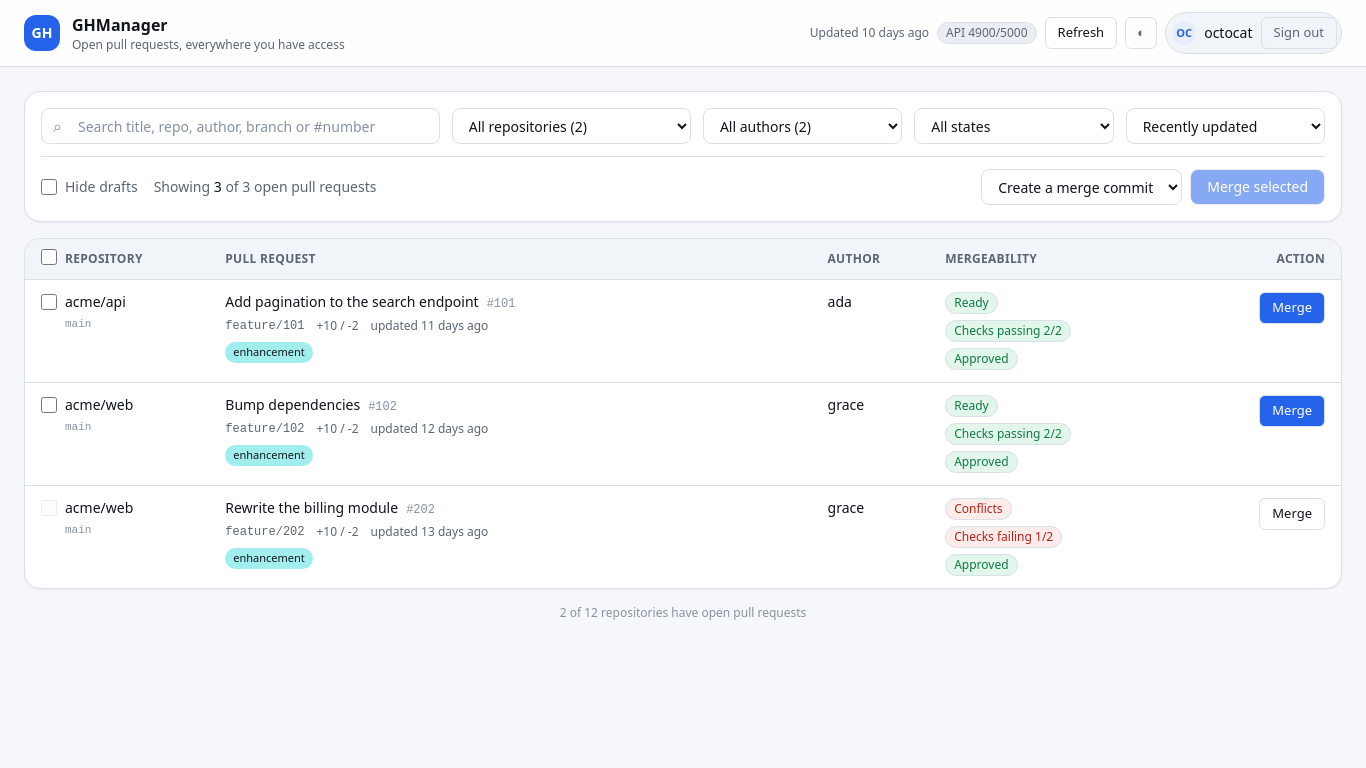
Test: Dashboard bulk merge › selects every mergeable row and merges them together
Expected: the table is shown, [25,239,1341,588]
Click the checkbox named "Select all 2 mergeable pull requests in view" at point(49, 257), box [41,249,57,265]
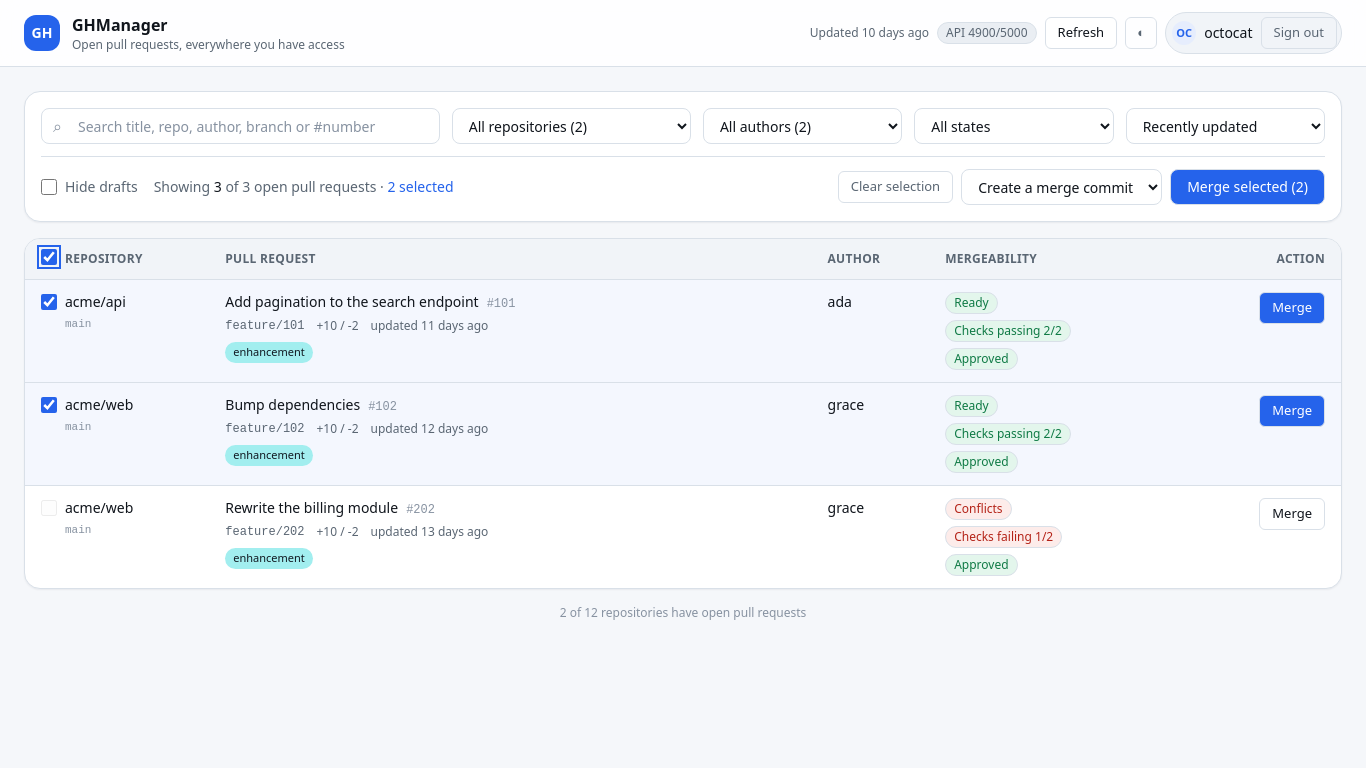
Expected: the text "2 selected" is shown, [388,177,454,196]
Click the button "Merge selected (2)" at point(1248, 187), box [1170,169,1325,205]
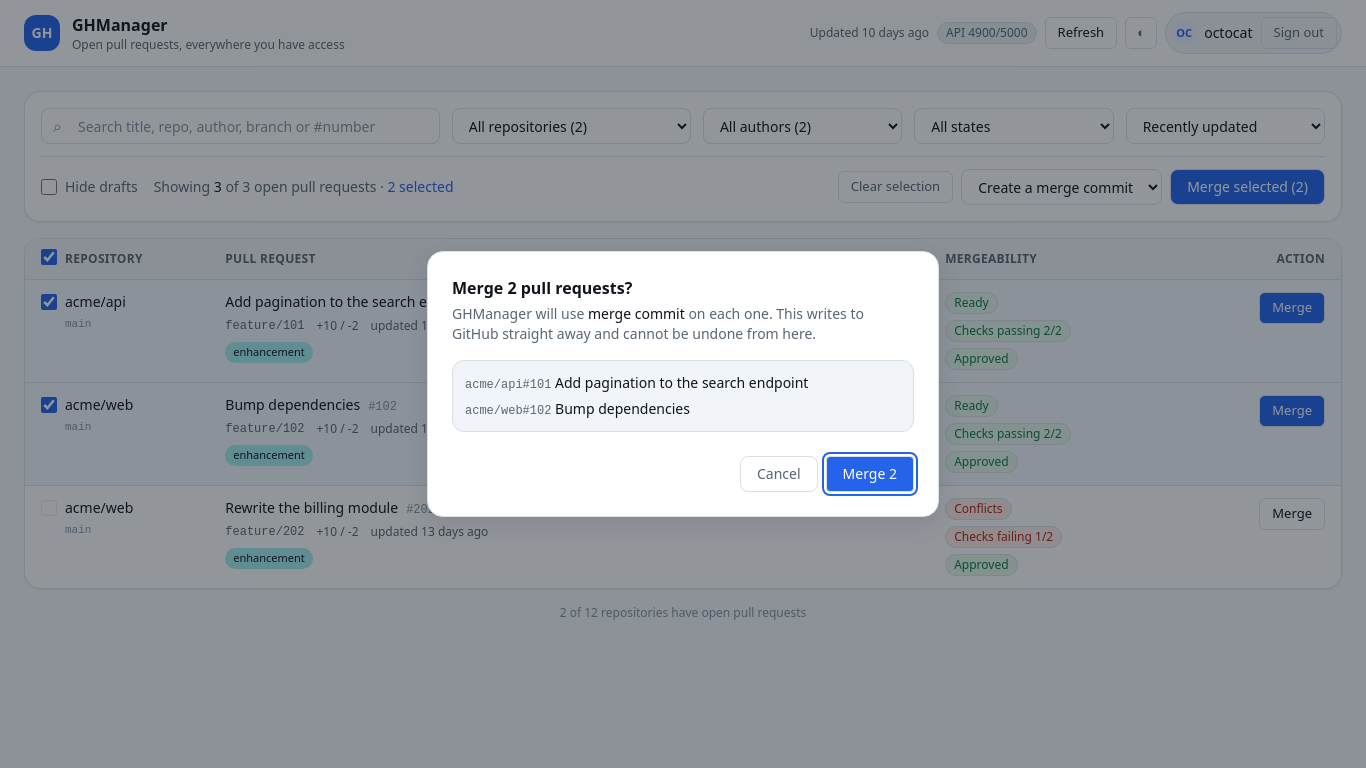
Expected: the heading "Merge 2 pull requests?" is shown, [452,277,632,299]
Click the button "Merge 2" at point(870, 474), box [826,456,914,492]
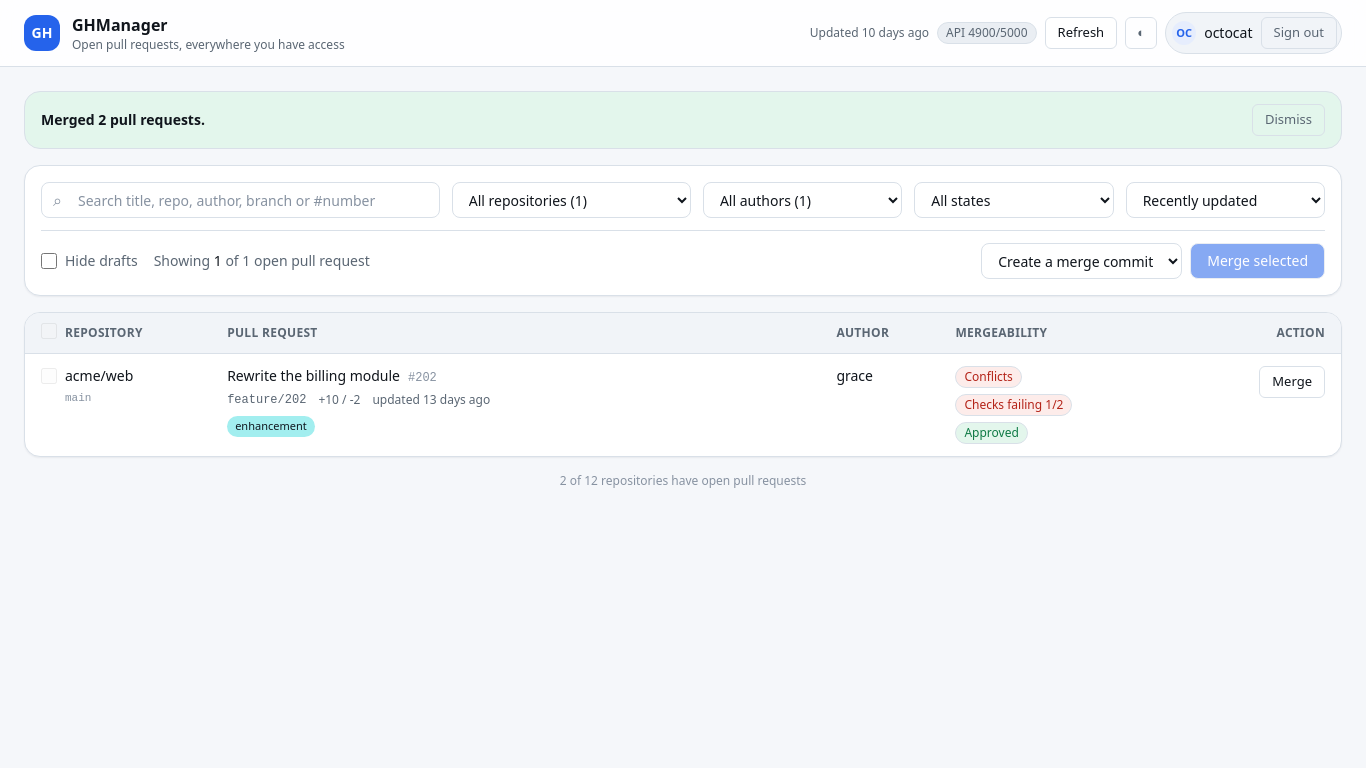
Expected: the message with test id "merge-summary" shows "Merged 2 pull requests.", [41,110,205,129]
